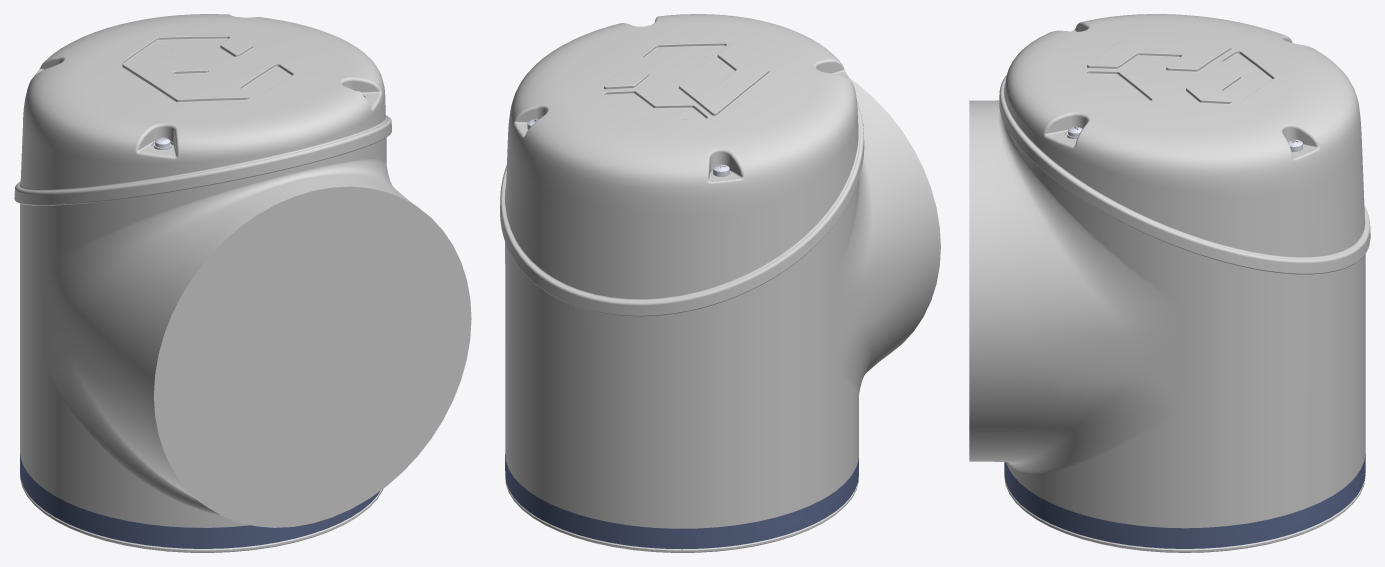
3 renders of one model, left to right at view 1: azimuth 30°, elevation 25°; view 2: azimuth 150°, elevation 25°; view 3: azimuth 270°, elevation 25°, orthographic. The views are drawn at different scales.
Visible parts, largest first — view 1: CS66-J1; view 2: CS66-J1; view 3: CS66-J1.
Boxes of the visible parts, x1,y1,x2,y2 form: CS66-J1: (14,14,471,552); CS66-J1: (500,14,940,552); CS66-J1: (969,14,1370,552).
Bounding box in the file's own units: 0.1216 × 0.131 × 0.1478.
